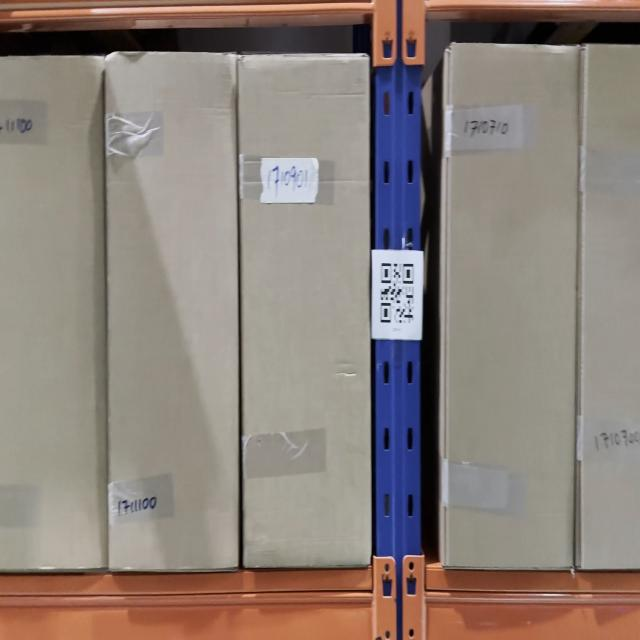box: (109, 56, 237, 570), (242, 57, 370, 565), (448, 48, 573, 568), (0, 54, 106, 569)
